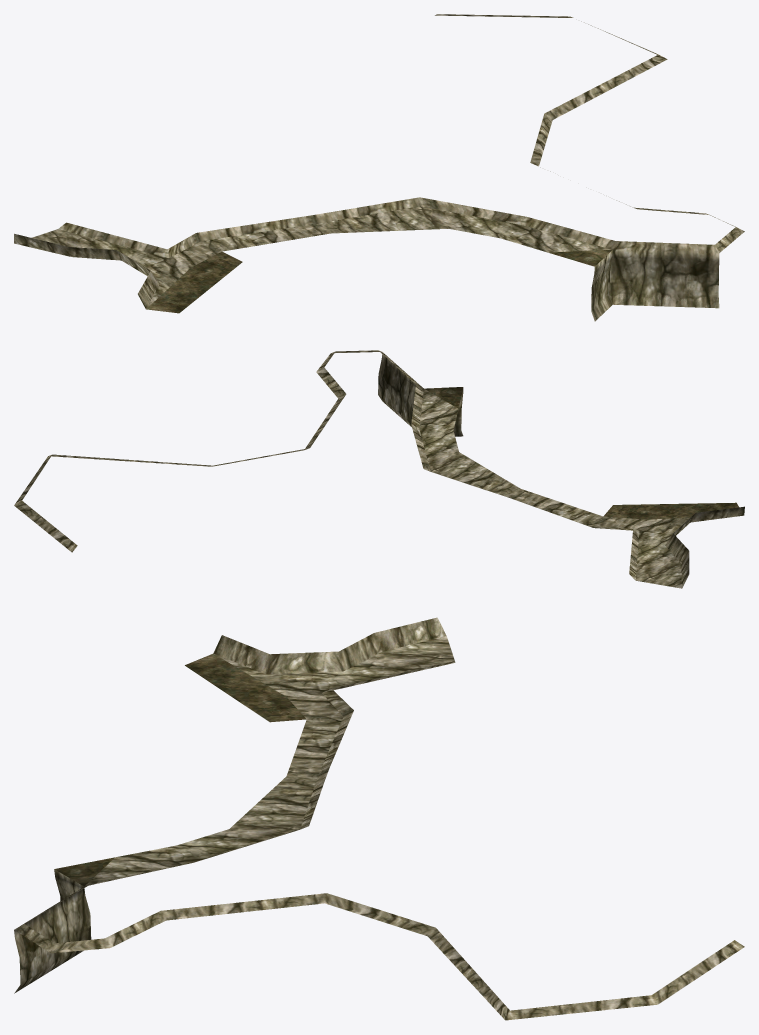
Rendered from CB_NEWPLAYSURFACE_CB_PLAYSURFACE134.fbx.
3 views of the same model, one above another, from view 1: azimuth 30°, elevation 25°; view 2: azimuth 150°, elevation 25°; view 3: azimuth 270°, elevation 25° (orthographic). The views are drawn at different scales.
Parts seen in each view (by area): view 1: CB_NEWPLAYSURFACE_CB_PLAYSURFACE134; view 2: CB_NEWPLAYSURFACE_CB_PLAYSURFACE134; view 3: CB_NEWPLAYSURFACE_CB_PLAYSURFACE134.
Part boxes in pixels (x1,y1,x2,y2): CB_NEWPLAYSURFACE_CB_PLAYSURFACE134: (14, 14, 744, 321); CB_NEWPLAYSURFACE_CB_PLAYSURFACE134: (14, 350, 744, 588); CB_NEWPLAYSURFACE_CB_PLAYSURFACE134: (14, 617, 744, 1020).
Size of the model in its own units: 519355 by 50000 by 414550.
3 materials, 3 textured.
